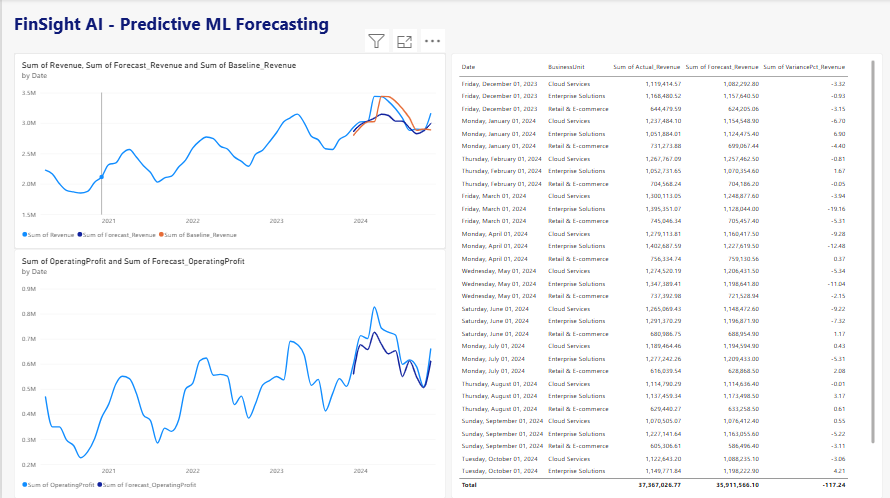

The page's visual inventory and layout, read from the dashboard file:
{"tool":"powerbi","page":{"name":"ML Forecast.Docs","canvas":[1920,1080],"ordinal":1},"visuals":[{"type":"textbox","box":[25.9,25.9,738.7,64.8],"z":0},{"type":"lineChart","fields":{"Category":["finsight_master_analytics.Date"],"Y":["Sum(finsight_master_analytics.Revenue)","Sum(finsight_master_analytics.Forecast_Revenue)","Sum(finsight_master_analytics.Baseline_Revenue)"]},"box":[25.9,116.6,933.1,423.4],"z":1000},{"type":"lineChart","fields":{"Category":["finsight_master_analytics.Date"],"Y":["Sum(finsight_master_analytics.OperatingProfit)","Sum(finsight_master_analytics.Forecast_OperatingProfit)"]},"box":[25.9,540,933.1,540],"z":2000},{"type":"tableEx","fields":{"Values":["finsight_master_analytics.Date","finsight_master_analytics.BusinessUnit","Sum(finsight_master_analytics.Actual_Revenue)","Sum(finsight_master_analytics.Forecast_Revenue)","Sum(finsight_master_analytics.VariancePct_Revenue)"]},"box":[969.8,116.6,933.1,963.4],"z":3000}]}

Visuals, with their boxes in screenshot pixels (x1, y1, x2, y2), scaled from the page's 1920x1080 canvas onto the 890x498 screenshot:
textbox: <region>12, 12, 354, 42</region>
lineChart - finsight_master_analytics.Date x Sum(finsight_master_analytics.Revenue): <region>12, 54, 445, 249</region>
lineChart - finsight_master_analytics.Date x Sum(finsight_master_analytics.OperatingProfit): <region>12, 249, 445, 497</region>
tableEx - finsight_master_analytics.Date x finsight_master_analytics.BusinessUnit: <region>450, 54, 882, 497</region>
